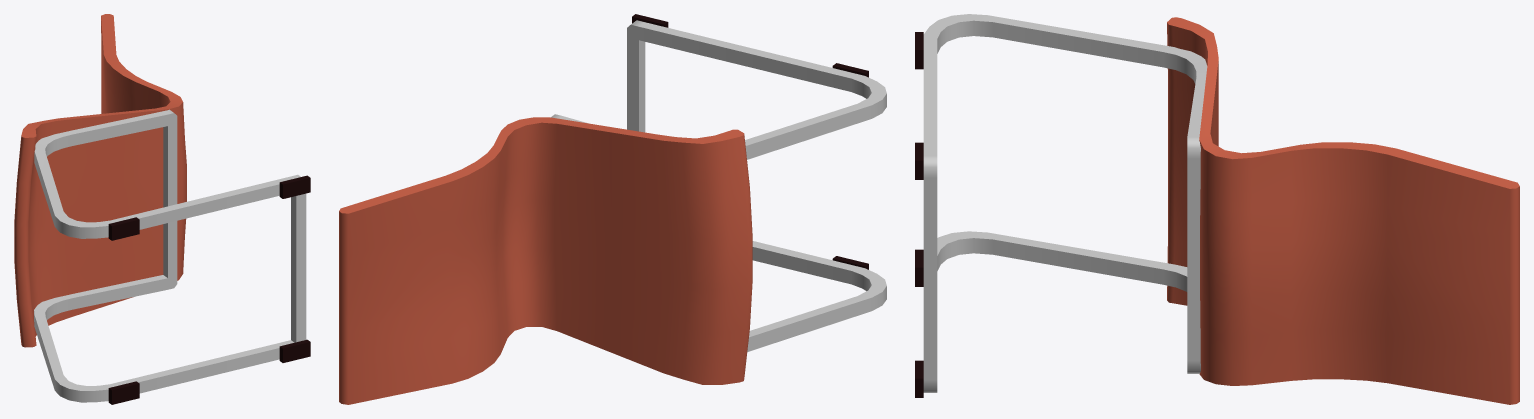
The model's file is chair.fbx.
3 renders of one model, left to right at view 1: azimuth 30°, elevation 25°; view 2: azimuth 150°, elevation 25°; view 3: azimuth 270°, elevation 25°, orthographic. The views are drawn at different scales.
Parts seen in each view (by area): view 1: Plane.013; view 2: Plane.013; view 3: Plane.013.
Part boxes in pixels (left/top/right/bottom): Plane.013: left=14, top=14, right=310, bottom=404; Plane.013: left=339, top=14, right=886, bottom=404; Plane.013: left=915, top=14, right=1519, bottom=404.
Bounding box in the file's own units: 62.06 × 48.26 × 95.07.
